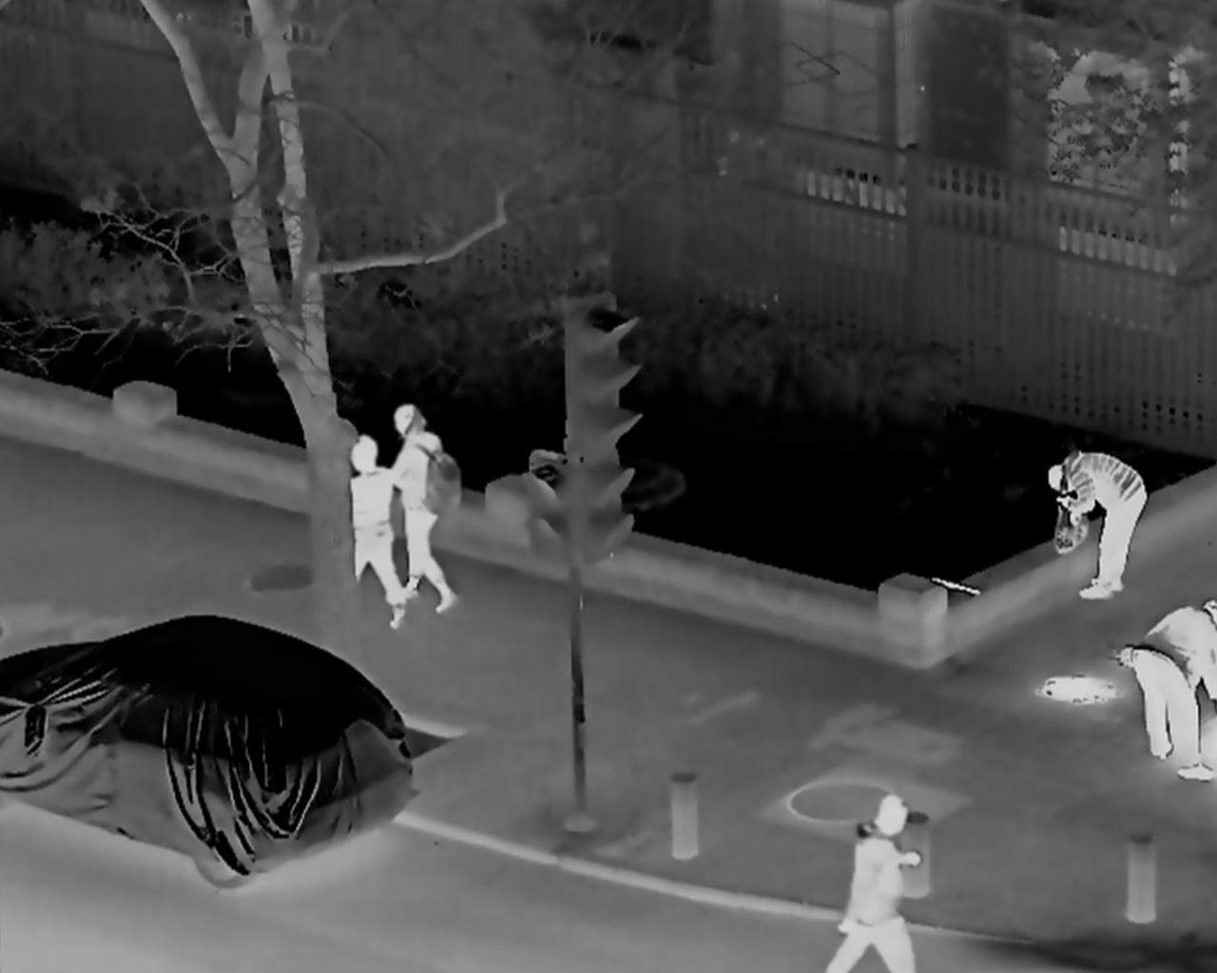person: (828, 801, 930, 973), (379, 409, 464, 610), (330, 429, 414, 631), (1130, 598, 1214, 787), (1043, 452, 1148, 601)
